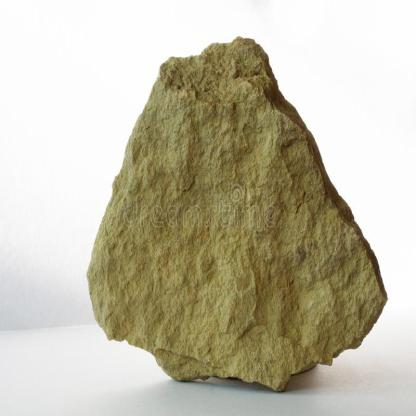Sedimentary_Limestone: (86, 24, 391, 394)
